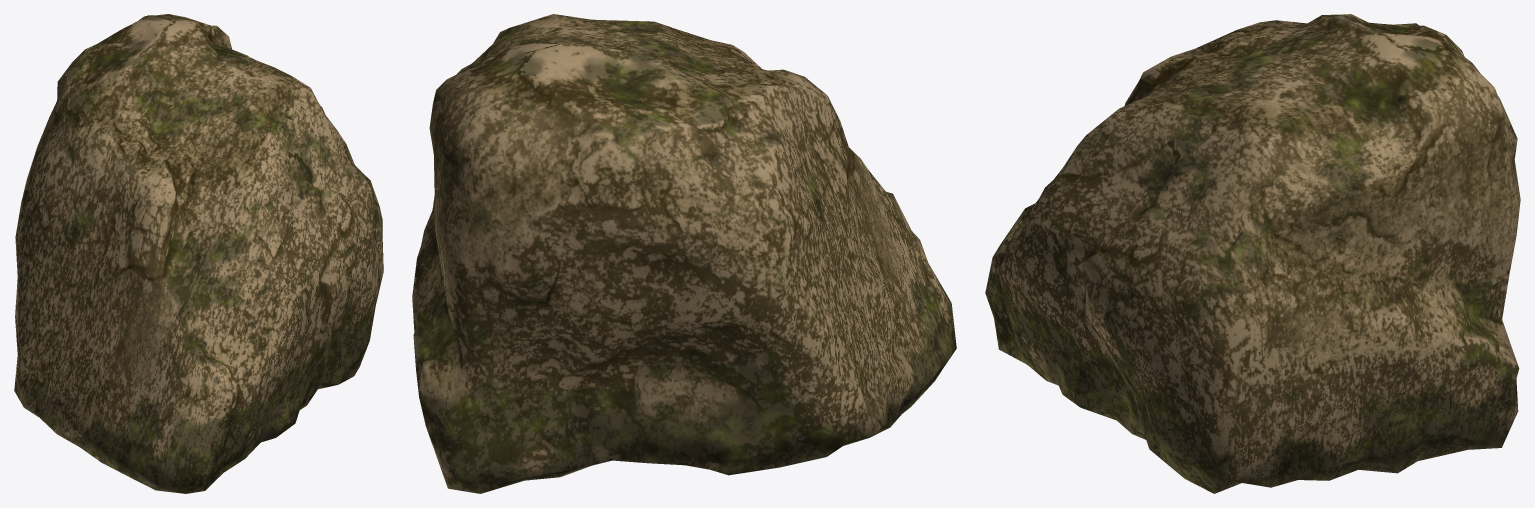
Rendered from mm8_deco_rock26.glb.
3 views of the same model, side by side, from view 1: azimuth 30°, elevation 25°; view 2: azimuth 150°, elevation 25°; view 3: azimuth 270°, elevation 25° (orthographic). The views are drawn at different scales.
Parts seen in each view (by area): view 1: Rock26; view 2: Rock26; view 3: Rock26.
Part boxes in pixels (bbox=[...]): Rock26: bbox=[14, 14, 383, 493]; Rock26: bbox=[412, 14, 956, 493]; Rock26: bbox=[985, 14, 1520, 493].
Bounding box in the file's own units: 1.43 × 1.28 × 1.57.
Materials: 1 (1 with a texture image).
